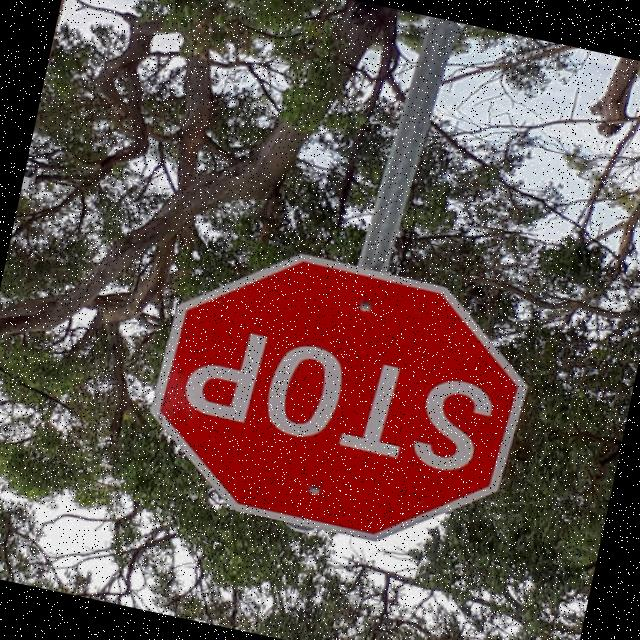stop: (127, 216, 556, 574)
